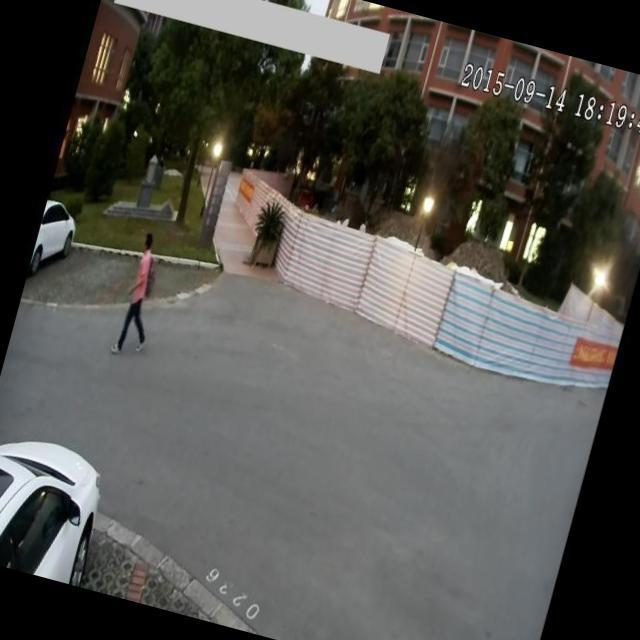person: (100, 223, 177, 367)
